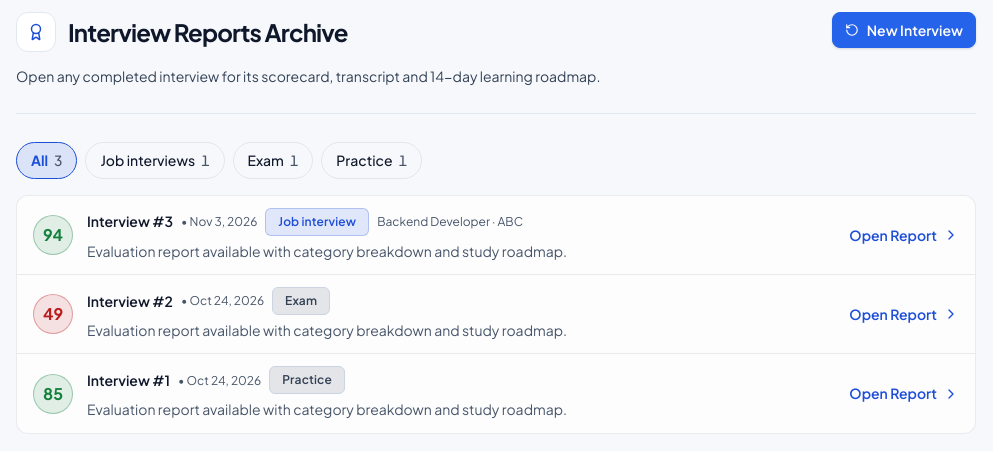
it: the interview archive › filtering to one kind shows only that kind
Click the button "Practice 1": click(372, 160) [321, 142, 422, 179]
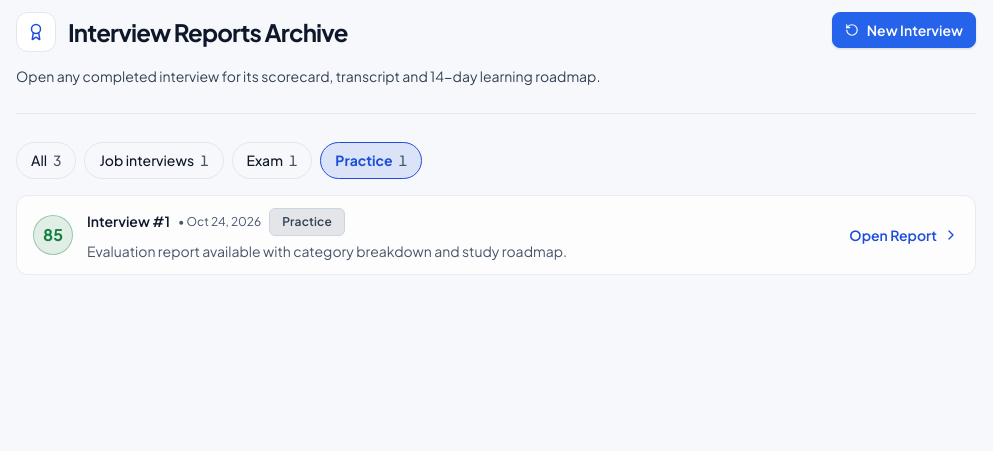
Result: the text "Backend Developer" is gone
